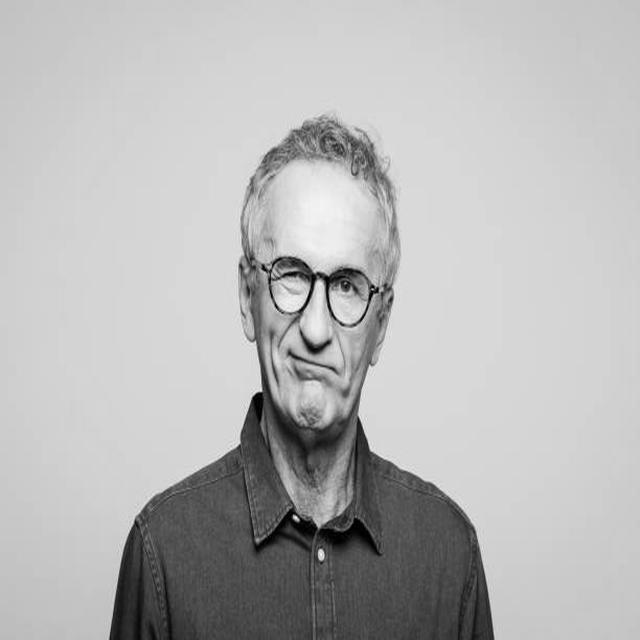Disgust: (252, 201, 390, 432)
